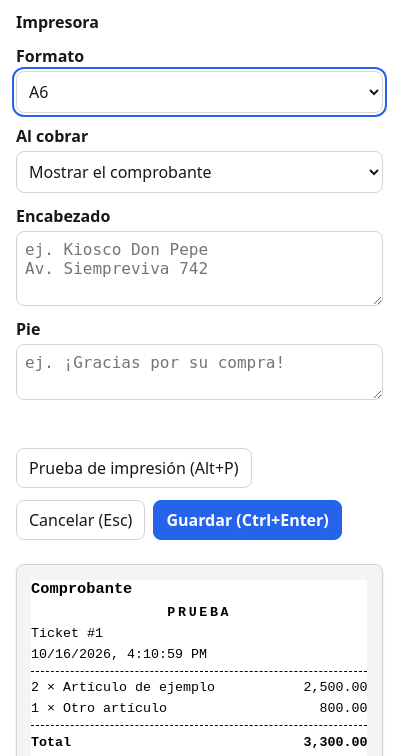
Test case: PrinterScreen › elegir un formato cambia el formulario y la vista previa
Select "58 mm" in the dropdown labelled "Formato" at (199, 92), box [16,71,383,113]
(page scrolled)
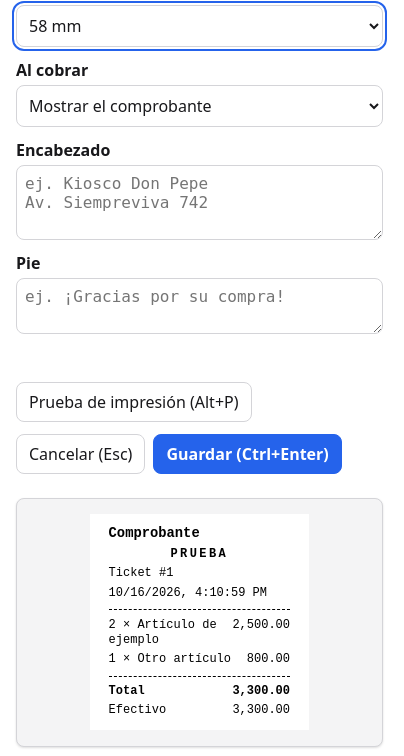
Expected: the element that starts with "Comprobante" is shown, [90,514,309,730]
